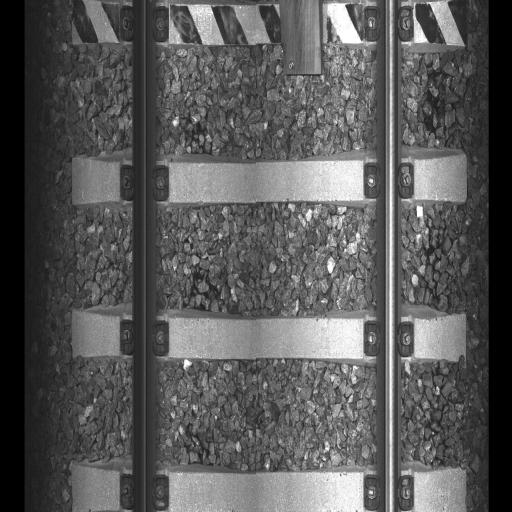sleeper: (72, 308, 466, 363), (72, 156, 467, 207), (72, 460, 466, 507), (70, 2, 464, 46)
